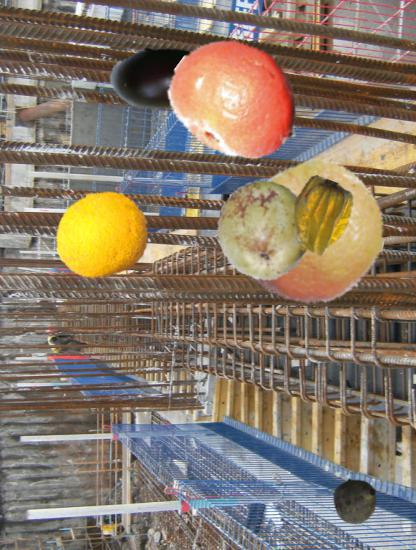Beetroot: (332, 471, 388, 527)
Cantaloupe: (54, 187, 148, 281)
Clementine: (168, 31, 307, 170)
Eggplant: (107, 26, 210, 129)
Mandarine: (236, 157, 385, 306)
Pear: (214, 180, 316, 282)
Physalis: (280, 179, 359, 258)
